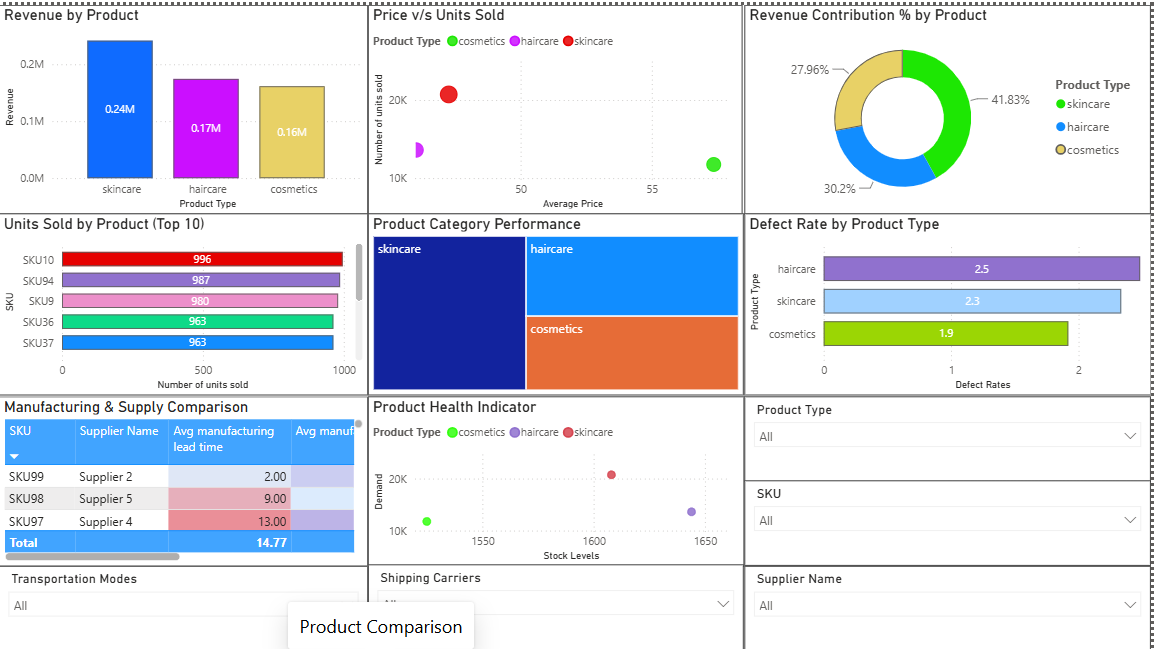

Layout of this report page (visuals, bound fields, positions):
{"tool":"powerbi","page":{"name":"Product Comparison","canvas":[1280,720],"ordinal":1},"visuals":[{"type":"clusteredColumnChart","title":"Revenue by Product","fields":{"Y":["Sum(supply_chain_table.Revenue_generated)"],"Category":["supply_chain_table.Product_type"]},"box":[0,0,410.1,232.4],"z":0},{"type":"barChart","title":"Units Sold by Product (Top 10)","fields":{"Y":["Sum(supply_chain_table.Number_of_products_sold)"],"Category":["supply_chain_table.SKU"]},"box":[0,232.4,410.1,202.2],"z":1000},{"type":"scatterChart","title":"Price v/s Units Sold","fields":{"X":["Avg(supply_chain_table.Price)"],"Y":["Sum(supply_chain_table.Number_of_products_sold)"],"Series":["supply_chain_table.Product_type"],"Size":["Sum(supply_chain_table.Revenue_generated)"]},"box":[410.1,0,415.8,232.4],"z":2000},{"type":"tableEx","title":"Manufacturing & Supply Comparison","fields":{"Values":["supply_chain_table.SKU","supply_chain_table.Supplier_name","Avg(supply_chain_table.Manufacturing_lead_time)","Avg(supply_chain_table.Manufacturing_costs)","Avg(supply_chain_table.Lead_time)","Sum(supply_chain_table.Stock_levels)","Sum(supply_chain_table.Order_quantities)"]},"box":[0,434.6,410.1,189],"z":3000},{"type":"treemap","title":"Product Category Performance","fields":{"Group":["supply_chain_table.Product_type"],"Values":["Sum(supply_chain_table.Revenue_generated)"]},"box":[410.1,232.4,417.6,202.2],"z":4000},{"type":"donutChart","title":"Revenue Contribution % by Product","fields":{"Category":["supply_chain_table.Product_type"],"Y":["Sum(supply_chain_table.Revenue_generated)"]},"box":[827.7,0,451.7,232.4],"z":5000},{"type":"scatterChart","title":"Product Health Indicator","fields":{"X":["Sum(supply_chain_table.Stock_levels)"],"Y":["Sum(supply_chain_table.Number_of_products_sold)"],"Series":["supply_chain_table.Product_type"]},"box":[410,435,418,189],"z":6000},{"type":"barChart","title":"Defect Rate by Product Type","fields":{"Y":["Avg(supply_chain_table.Defect_rates)"],"Category":["supply_chain_table.Product_type"]},"box":[828,232,452,202],"z":7000},{"type":"slicer","fields":{"Values":["supply_chain_table.Product_type"]},"box":[827.7,434.6,451.7,94.5],"z":8000},{"type":"slicer","fields":{"Values":["supply_chain_table.SKU"]},"box":[827.7,529.1,451.7,94.5],"z":9000},{"type":"slicer","fields":{"Values":["supply_chain_table.Supplier_name"]},"box":[827.7,623.6,451.7,96.4],"z":10000},{"type":"slicer","fields":{"Values":["supply_chain_table.Shipping_carriers"]},"box":[410.1,621.7,417.6,96.4],"z":11000},{"type":"slicer","fields":{"Values":["supply_chain_table.Transportation_modes"]},"box":[0,623.6,410.1,96.4],"z":12000}]}

Visuals, with their boxes in screenshot pixels (x1, y1, x2, y2), scaled from the page's 1280x720 canvas onto the 1155x649 screenshot:
"Revenue by Product" clusteredColumnChart: [0, 0, 370, 209]
"Units Sold by Product (Top 10)" barChart: [0, 209, 370, 392]
"Price v/s Units Sold" scatterChart: [370, 0, 745, 209]
"Manufacturing & Supply Comparison" tableEx: [0, 392, 370, 562]
"Product Category Performance" treemap: [370, 209, 747, 392]
"Revenue Contribution % by Product" donutChart: [747, 0, 1154, 209]
"Product Health Indicator" scatterChart: [370, 392, 747, 562]
"Defect Rate by Product Type" barChart: [747, 209, 1154, 391]
slicer - supply_chain_table.Product_type: [747, 392, 1154, 477]
slicer - supply_chain_table.SKU: [747, 477, 1154, 562]
slicer - supply_chain_table.Supplier_name: [747, 562, 1154, 648]
slicer - supply_chain_table.Shipping_carriers: [370, 560, 747, 647]
slicer - supply_chain_table.Transportation_modes: [0, 562, 370, 648]
